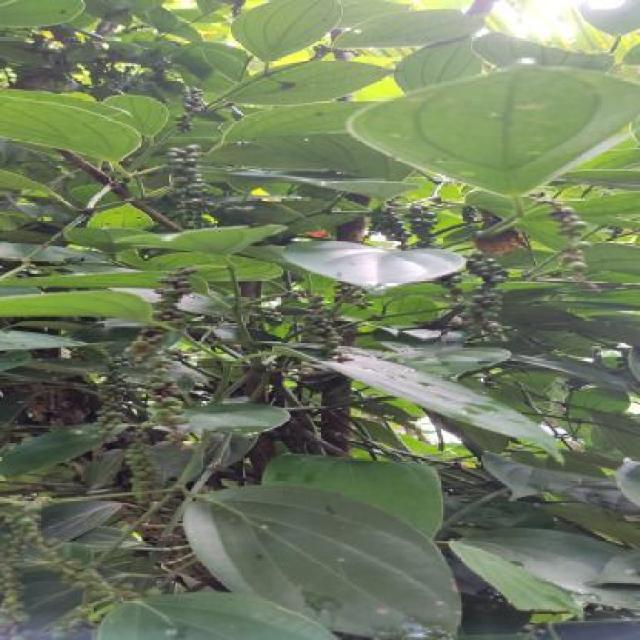UNRIPE: (1, 496, 59, 630), (125, 267, 202, 361), (461, 252, 514, 334), (167, 146, 210, 226), (64, 559, 139, 604), (554, 199, 594, 272), (89, 364, 129, 436), (370, 206, 436, 249), (124, 437, 162, 509), (302, 295, 341, 359), (149, 367, 180, 428), (172, 89, 210, 134), (104, 66, 139, 92), (249, 305, 283, 324)
